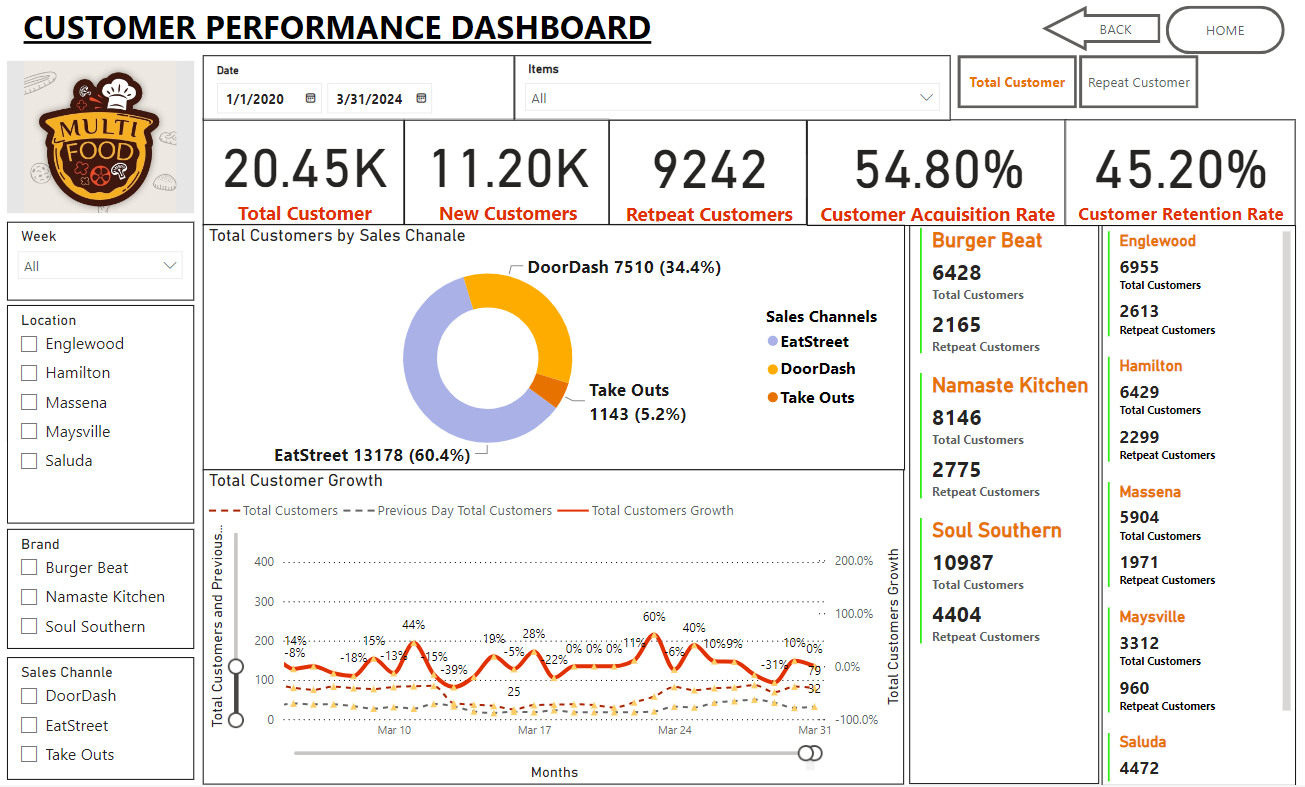

The dashboard page shown, as its layout file describes it:
{"tool":"powerbi","page":{"name":"CUSTOMER PERFORMANCE","canvas":[1280,780],"ordinal":5},"visuals":[{"type":"image","box":[0,61.4,185.7,151.4],"z":0},{"type":"slicer","fields":{"Values":["Live Data.Location"]},"box":[0,303.3,185.4,217.2],"z":1000},{"type":"slicer","fields":{"Values":["Live Data.Week"]},"box":[0,221.2,185.4,78.1],"z":2000},{"type":"slicer","fields":{"Values":["Live Data.Brand"]},"box":[0,525.7,185.4,119.2],"z":3000},{"type":"textbox","box":[11.2,0,868.8,55],"z":4000},{"type":"card","fields":{"Values":["Count(Live Data.Customer Name)"]},"box":[194.2,118.3,200,106.7],"z":5000},{"type":"card","fields":{"Values":["Master Sales.Total New Customers"]},"box":[393.8,118.8,203.8,106.2],"z":6000},{"type":"card","fields":{"Values":["Master Sales.Retpeat Customers"]},"box":[597.5,119.2,196.7,105.8],"z":7000},{"type":"multiRowCard","title":"Total Customers by Outlet","fields":{"Values":["Live Data.Location","Live Data.Customer Name","Live Data.Retpeat Customers"]},"box":[1086,224,193,556],"z":8000},{"type":"donutChart","title":"Total Customers by Sales Chanale","fields":{"Category":["Live Data.Sales Channle"],"Y":["Count(Live Data.Customer Name)"]},"box":[194.3,223.6,697.1,244.3],"z":9000},{"type":"multiRowCard","title":"Total Customers by Brand","fields":{"Values":["Live Data.Brand","Live Data.Customer Name","Live Data.Retpeat Customers"]},"box":[895,224,188,555],"z":10000},{"type":"lineChart","title":"Total Customer Growth","fields":{"Y":["CountNonNull(Live Data.Customer Name)","Live Data.Previous Day Total Customers"],"Category":["Live Data.Payment Date"],"Y2":["Live Data.Total Customers Growth"]},"box":[194.3,467.1,696.4,312.9],"z":11000},{"type":"card","fields":{"Values":["Live Data.Customer Acquisition Rate"]},"box":[793.3,119.2,257.5,105.8],"z":12000},{"type":"card","fields":{"Values":["Live Data.Customer Retention Rate"]},"box":[1050,119.2,229.2,105.8],"z":13000},{"type":"slicer","title":"Date","fields":{"Values":["Live Data.Payment Date"]},"box":[194.5,55.5,309.1,64.5],"z":14000},{"type":"slicer","fields":{"Values":["Live Data.Items"]},"box":[503.6,55.5,432.7,64.5],"z":15000},{"type":"actionButton","box":[1149.9,6.9,118,48],"z":16000},{"type":"actionButton","box":[1027,6.8,117.8,45.2],"z":18000},{"type":"slicer","fields":{"Values":["Live Data.Sales Channle"]},"box":[0,652.9,185.4,121.8],"z":19000},{"type":"actionButton","box":[943.7,55.9,118.6,52.9],"z":20000},{"type":"actionButton","box":[1064.3,56.1,118.6,52.9],"z":21000}]}

Visuals, with their boxes in screenshot pixels (x1, y1, x2, y2), scaled from the page's 1280x780 canvas onto the 1305x787 screenshot:
image: (x1=0, y1=62, x2=189, y2=215)
slicer - Live Data.Location: (x1=0, y1=306, x2=189, y2=525)
slicer - Live Data.Week: (x1=0, y1=223, x2=189, y2=302)
slicer - Live Data.Brand: (x1=0, y1=530, x2=189, y2=651)
textbox: (x1=11, y1=0, x2=897, y2=55)
card - Count(Live Data.Customer Name): (x1=198, y1=119, x2=402, y2=227)
card - Master Sales.Total New Customers: (x1=401, y1=120, x2=609, y2=227)
card - Master Sales.Retpeat Customers: (x1=609, y1=120, x2=810, y2=227)
"Total Customers by Outlet" multiRowCard: (x1=1107, y1=226, x2=1304, y2=786)
"Total Customers by Sales Chanale" donutChart: (x1=198, y1=226, x2=909, y2=472)
"Total Customers by Brand" multiRowCard: (x1=912, y1=226, x2=1104, y2=786)
"Total Customer Growth" lineChart: (x1=198, y1=471, x2=908, y2=786)
card - Live Data.Customer Acquisition Rate: (x1=809, y1=120, x2=1071, y2=227)
card - Live Data.Customer Retention Rate: (x1=1071, y1=120, x2=1304, y2=227)
"Date" slicer: (x1=198, y1=56, x2=513, y2=121)
slicer - Live Data.Items: (x1=513, y1=56, x2=955, y2=121)
actionButton: (x1=1172, y1=7, x2=1293, y2=55)
actionButton: (x1=1047, y1=7, x2=1167, y2=52)
slicer - Live Data.Sales Channle: (x1=0, y1=659, x2=189, y2=782)
actionButton: (x1=962, y1=56, x2=1083, y2=110)
actionButton: (x1=1085, y1=57, x2=1206, y2=110)
